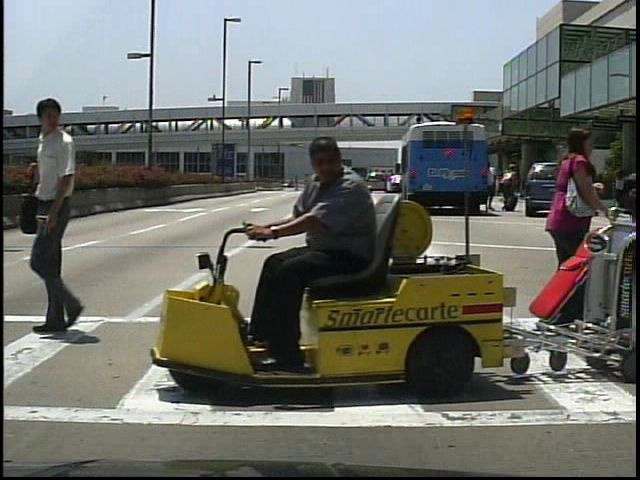person: (245, 134, 386, 373), (27, 100, 117, 335), (537, 121, 601, 354), (579, 180, 633, 326), (480, 162, 500, 216), (580, 163, 601, 214), (502, 164, 521, 218)
